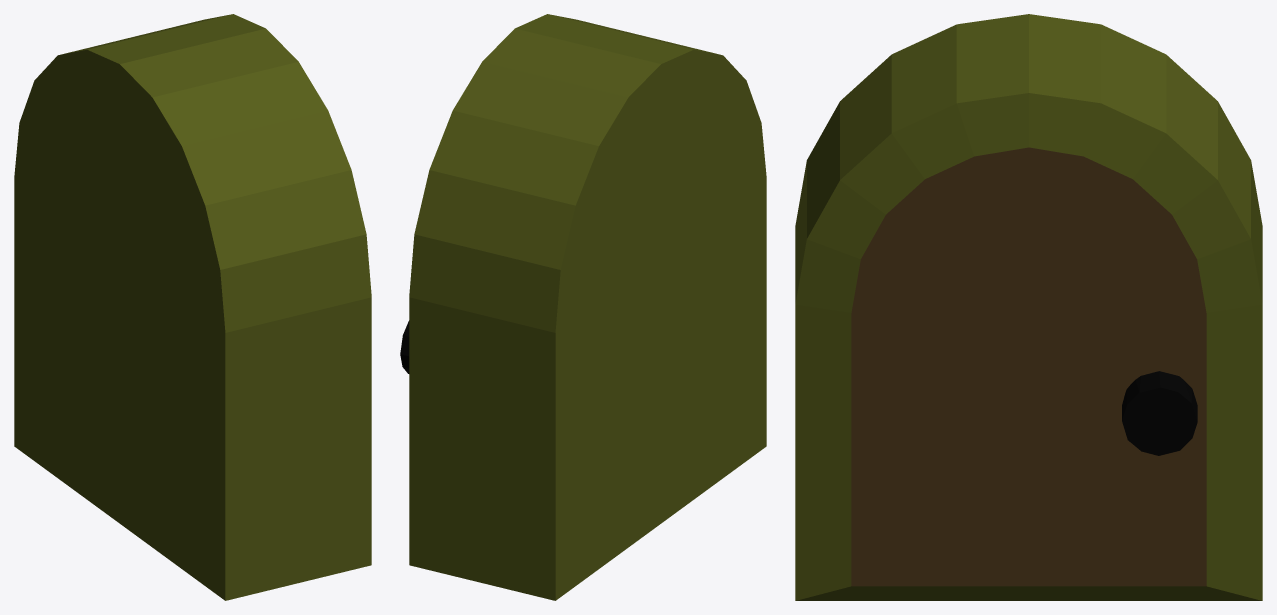
Rendered from Door.fbx.
The picture shows the model from 3 angles, left to right: view 1: azimuth 30°, elevation 25°; view 2: azimuth 150°, elevation 25°; view 3: azimuth 270°, elevation 25°; orthographic projection. The views are drawn at different scales.
Visible parts, largest first — view 1: Cube; view 2: Cube; view 3: Cube, Cylinder.
Part boxes in pixels (x1,y1,x2,y2): Cube: (14, 14, 371, 600); Cube: (409, 14, 766, 600); Cube: (795, 14, 1262, 600); Cylinder: (1122, 371, 1197, 455).
Size of the model in its own units: 252 by 600 by 500.
